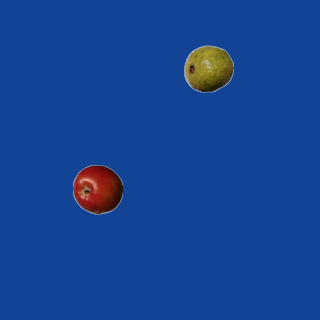Apple Braeburn: (72, 164, 122, 214)
Guava: (183, 43, 233, 93)
